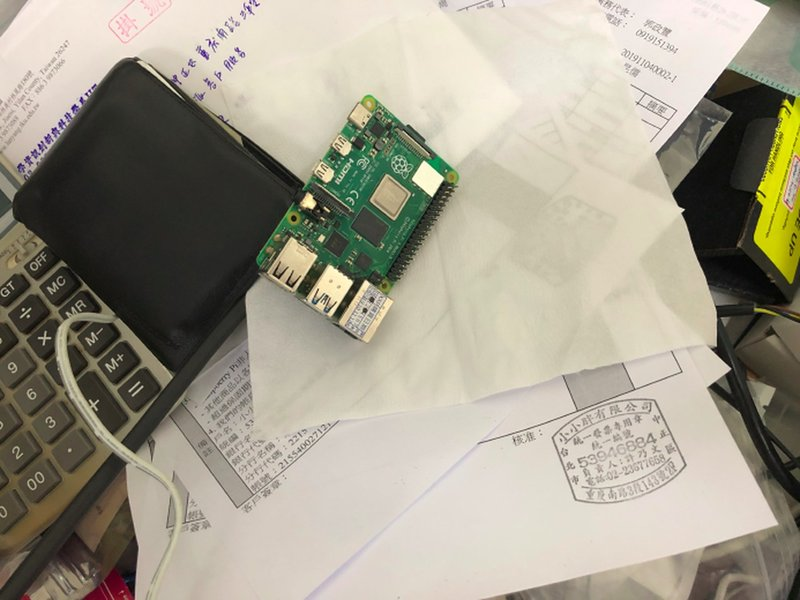pi: (250, 92, 460, 345)
